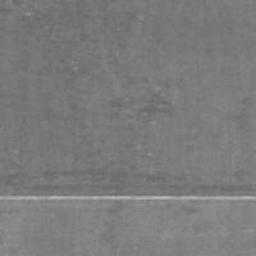Welding line: (0, 193, 256, 202)
